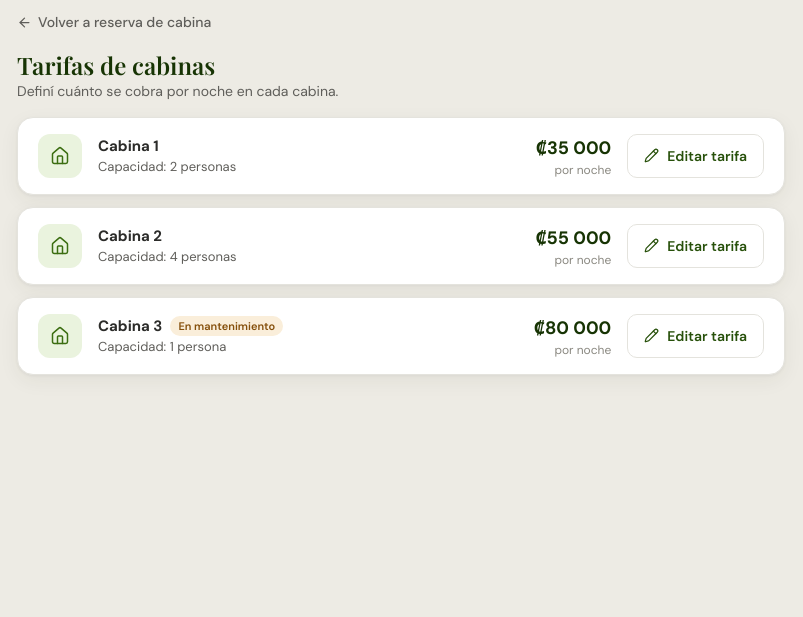
Test: HU-128 pantalla Tarifas de cabinas › al editar, abre el formulario con la tarifa actual y solo en esa cabina
What coordinates should you click on to do the following:
click the button "Editar tarifa" next to "₡55 000"
I would click on:
 (696, 246)
Its box is [627, 224, 764, 268].
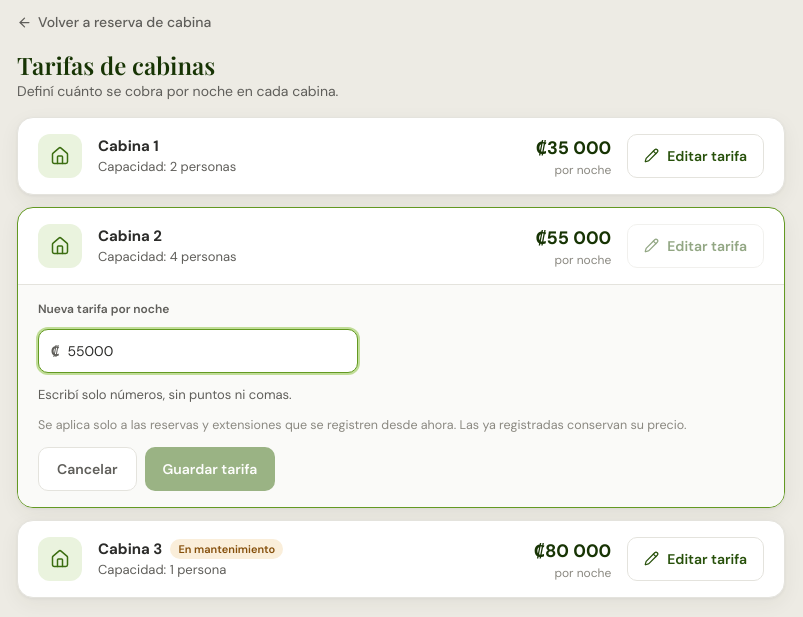
Now the field labelled "Nueva tarifa por noche" holds "55000", box [67, 340, 345, 360]
Now the number of fields labelled "Nueva tarifa por noche" is 1, box [67, 340, 345, 360]
Now the text "conservan su precio" is shown, box [38, 417, 686, 433]
